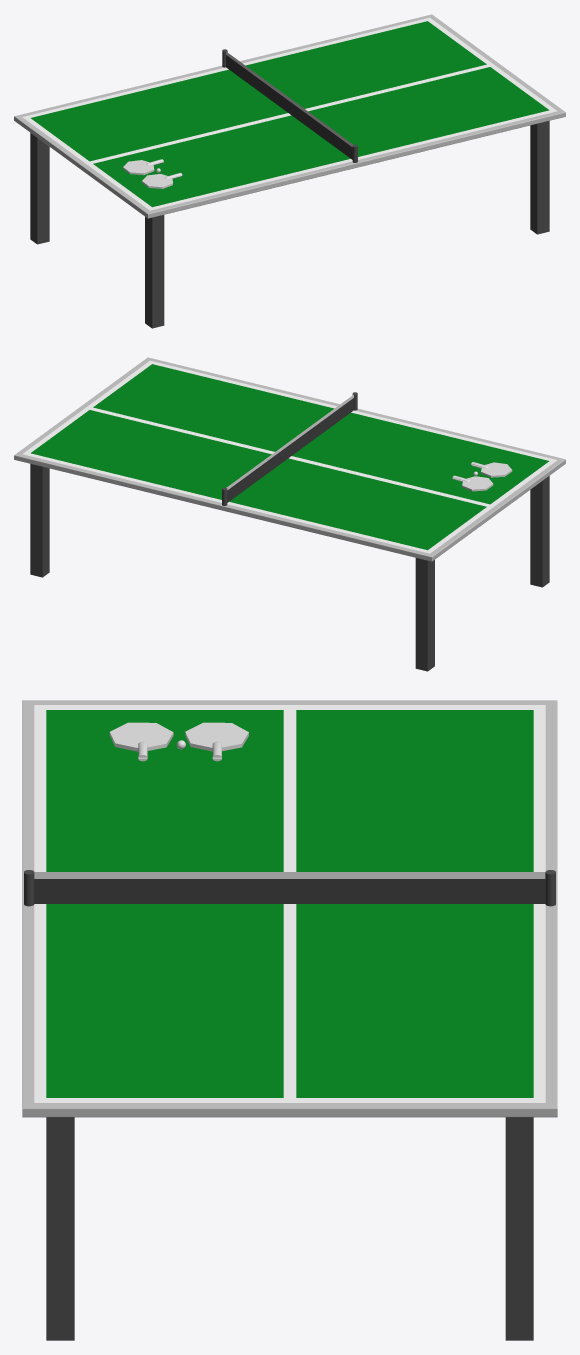
Rendered from tennis.fbx.
3 views of the same model, one above another, from view 1: azimuth 30°, elevation 25°; view 2: azimuth 150°, elevation 25°; view 3: azimuth 270°, elevation 25° (orthographic). The views are drawn at different scales.
Visible parts, largest first — view 1: Box001, Box005, Box004, Plane001, Box002; view 2: Box001, Box002, Box003, Plane001, Box005; view 3: Box001, Plane001, Box003, Box004, Cylinder.003, Cylinder.001.
Boxes of the visible parts, <box> form: Box001: <box>14,14,565,218</box>; Box005: <box>145,215,164,328</box>; Box004: <box>530,121,549,234</box>; Plane001: <box>226,51,353,159</box>; Box002: <box>30,133,49,244</box>; Box001: <box>14,357,565,561</box>; Box002: <box>415,558,434,671</box>; Box003: <box>30,464,49,577</box>; Plane001: <box>226,394,353,502</box>; Box005: <box>530,476,549,587</box>; Box001: <box>22,700,557,1117</box>; Plane001: <box>34,872,545,903</box>; Box003: <box>505,1117,533,1340</box>; Box004: <box>46,1117,74,1340</box>; Cylinder.003: <box>110,722,173,747</box>; Cylinder.001: <box>185,722,248,743</box>.
Size of the model in its own units: 274 by 85.99 by 152.
